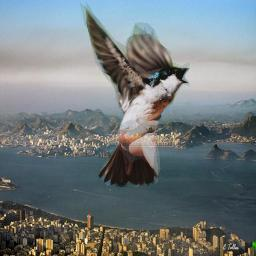Swallow: (79, 2, 190, 187)
